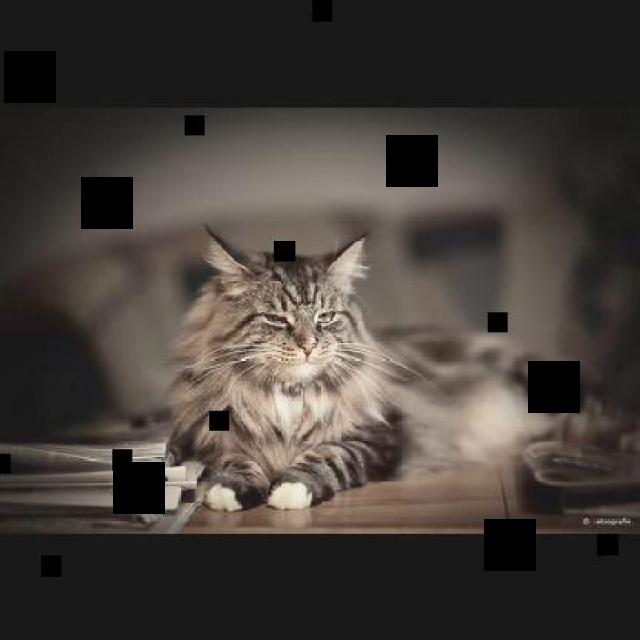unauthorized: (160, 223, 608, 512)
